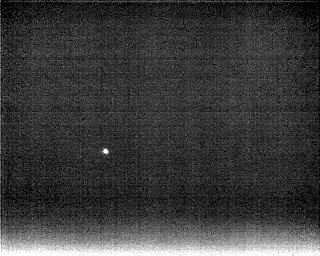BIRD: (100, 145, 111, 158)
